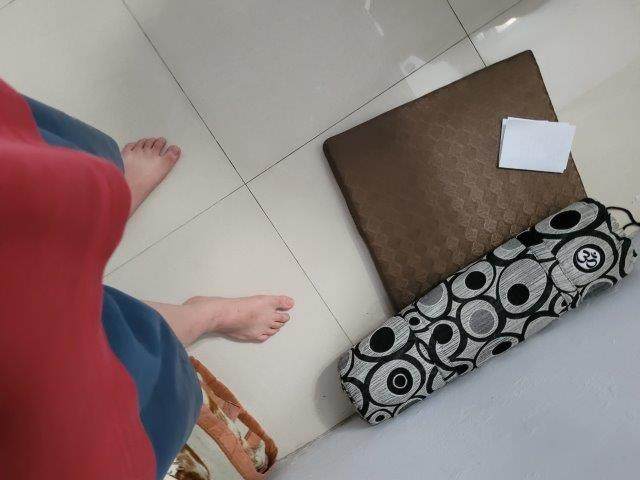kertas: (501, 120, 573, 175)
